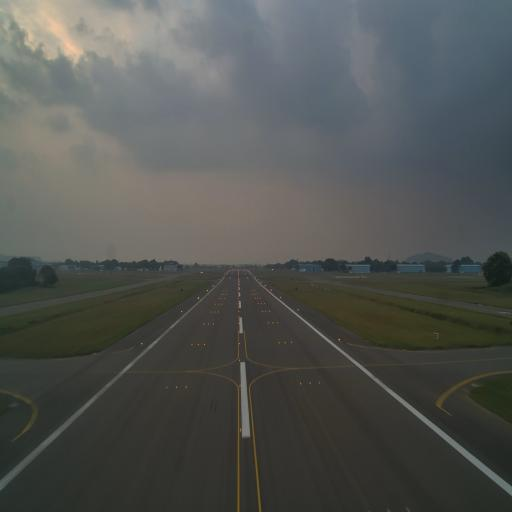on: (239, 427, 243, 435), (238, 357, 242, 364), (185, 384, 188, 391), (300, 381, 303, 388), (238, 383, 242, 388), (165, 385, 169, 390), (174, 385, 178, 390), (140, 341, 144, 346), (309, 380, 312, 386), (190, 341, 193, 347), (197, 342, 200, 348), (318, 380, 321, 385), (290, 340, 293, 345), (278, 340, 280, 346), (338, 336, 340, 342), (204, 342, 206, 347), (284, 340, 286, 345), (238, 342, 240, 345)
